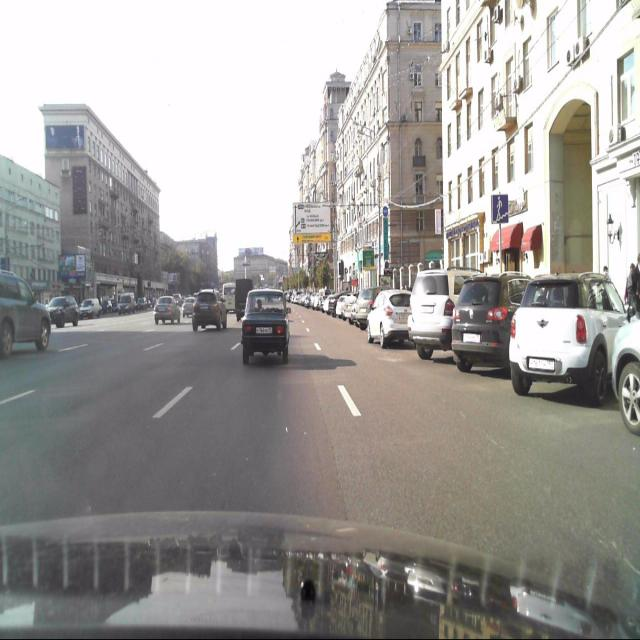road sign: (492, 194, 509, 223)
